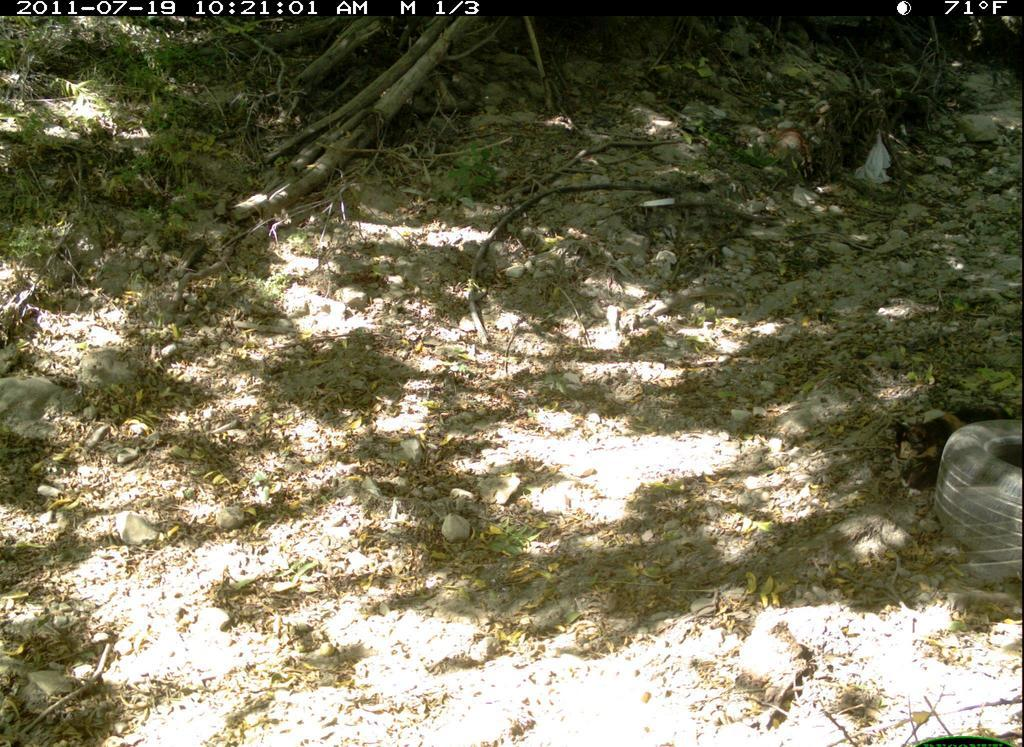cat: (884, 396, 1023, 505)
